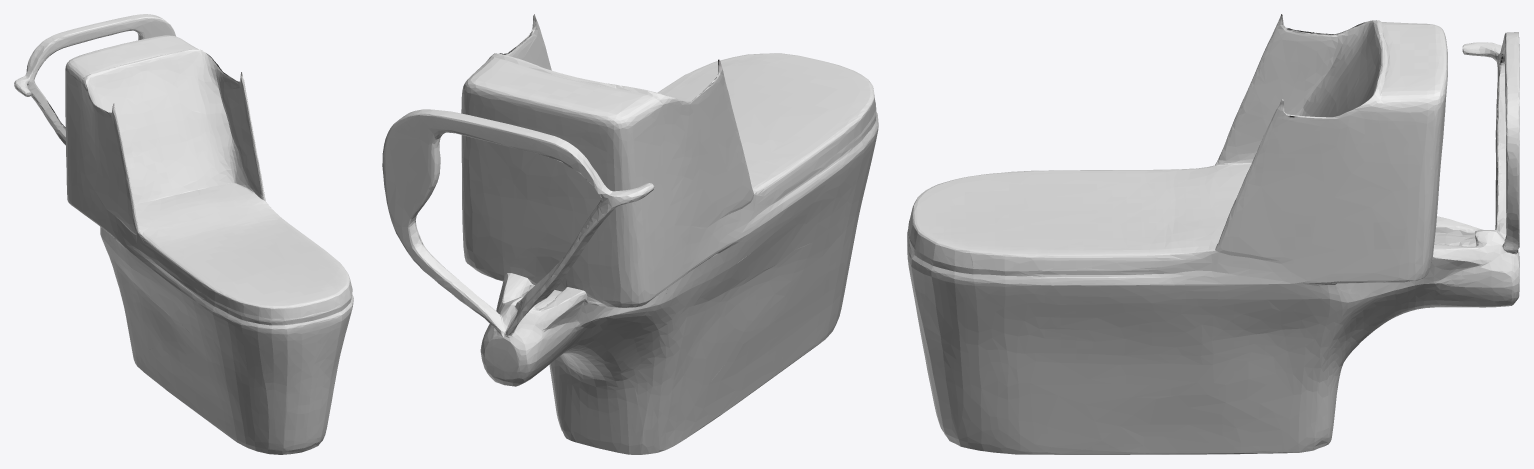
3 views of the same model, side by side, from view 1: azimuth 30°, elevation 25°; view 2: azimuth 150°, elevation 25°; view 3: azimuth 270°, elevation 25° (orthographic). The views are drawn at different scales.
Visible parts, largest first — view 1: world; view 2: world; view 3: world.
Boxes of the visible parts, bbox=[...] form: world: bbox=[14, 14, 353, 454]; world: bbox=[382, 14, 878, 454]; world: bbox=[907, 14, 1519, 454].
Size of the model in its own units: 0.437 by 0.6738 by 1.
Materials: 1 (1 with a texture image).
